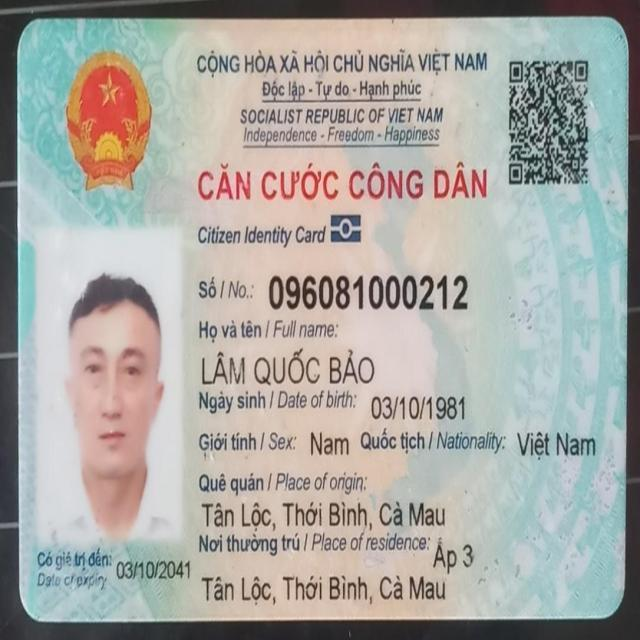current_place: (200, 566, 447, 607), (431, 538, 482, 576)
dob: (367, 390, 469, 429)
expire_date: (114, 556, 193, 585)
gender: (306, 426, 355, 464)
id: (263, 263, 477, 325)
name: (199, 345, 380, 387)
nationality: (514, 428, 604, 467)
origin_place: (200, 462, 449, 530)
